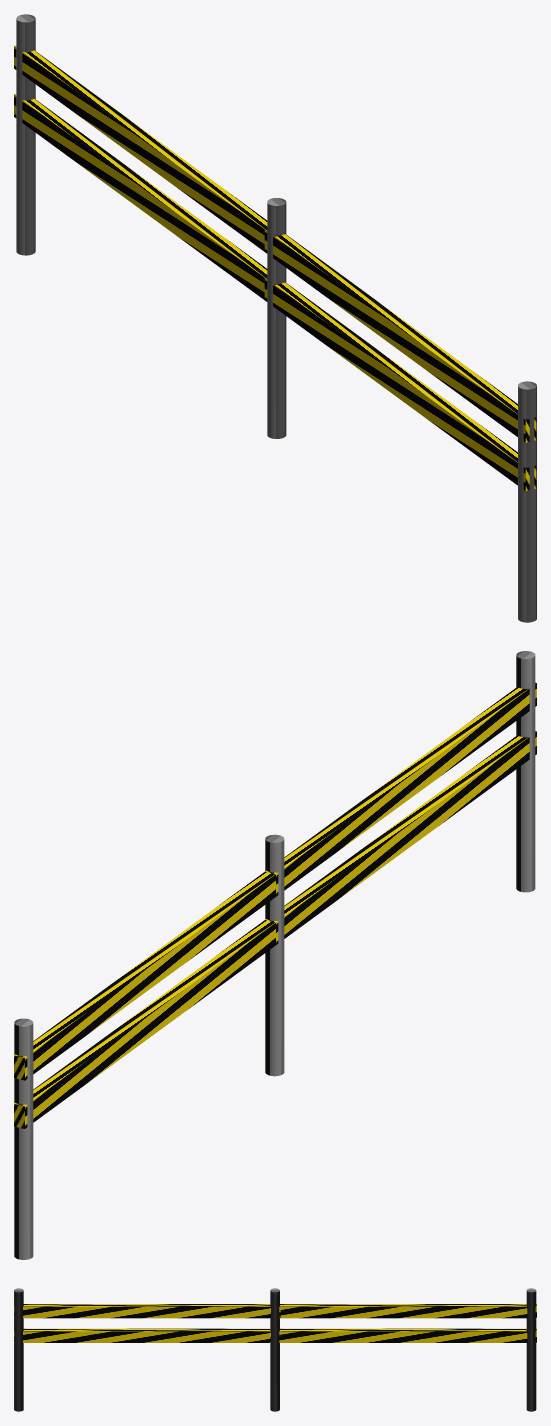
The model's file is Fences.fbx.
3 views of the same model, one above another, from view 1: azimuth 30°, elevation 25°; view 2: azimuth 150°, elevation 25°; view 3: azimuth 270°, elevation 25° (orthographic). The views are drawn at different scales.
Visible parts, largest first — view 1: Cylinder.003; view 2: Cylinder.003; view 3: Cylinder.003.
Part boxes in pixels (<box>): Cylinder.003: <box>14,14,536,622</box>; Cylinder.003: <box>14,651,536,1259</box>; Cylinder.003: <box>14,1288,536,1411</box>.
Size of the model in its own units: 30.5 by 410 by 1633.
